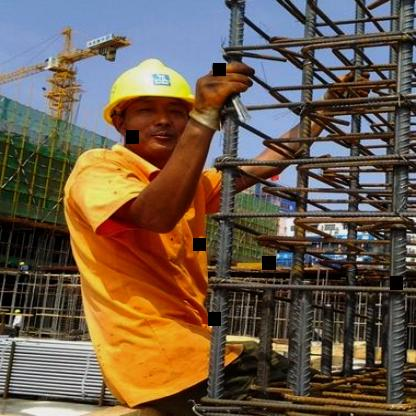helmet: (93, 45, 208, 167)
